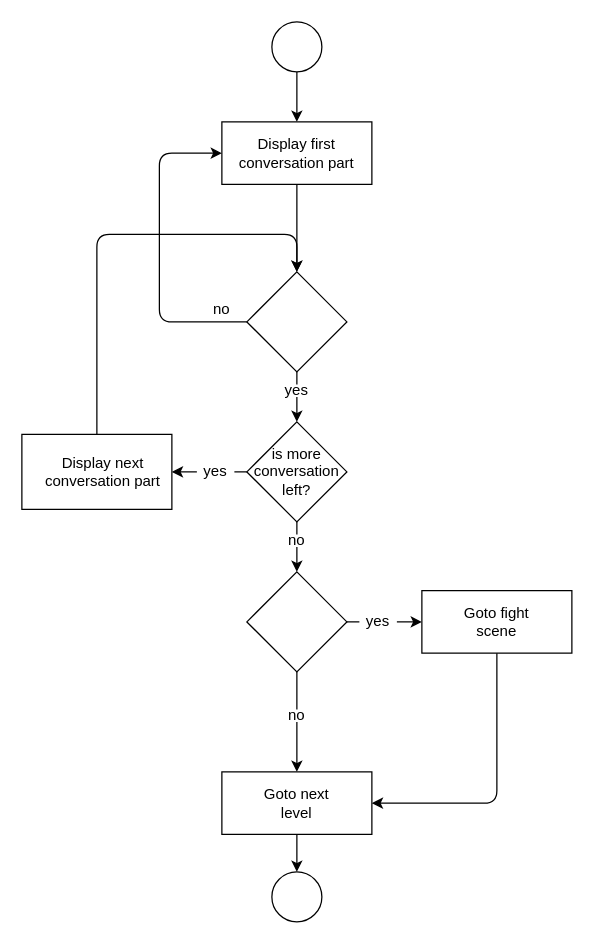
This 594x944 diagram has some shape labels left out. Each missing label, with the centre of its shape:
"includes fight scene?" belongs at point (296, 621).
"User clicked screen?" belongs at point (296, 321).
